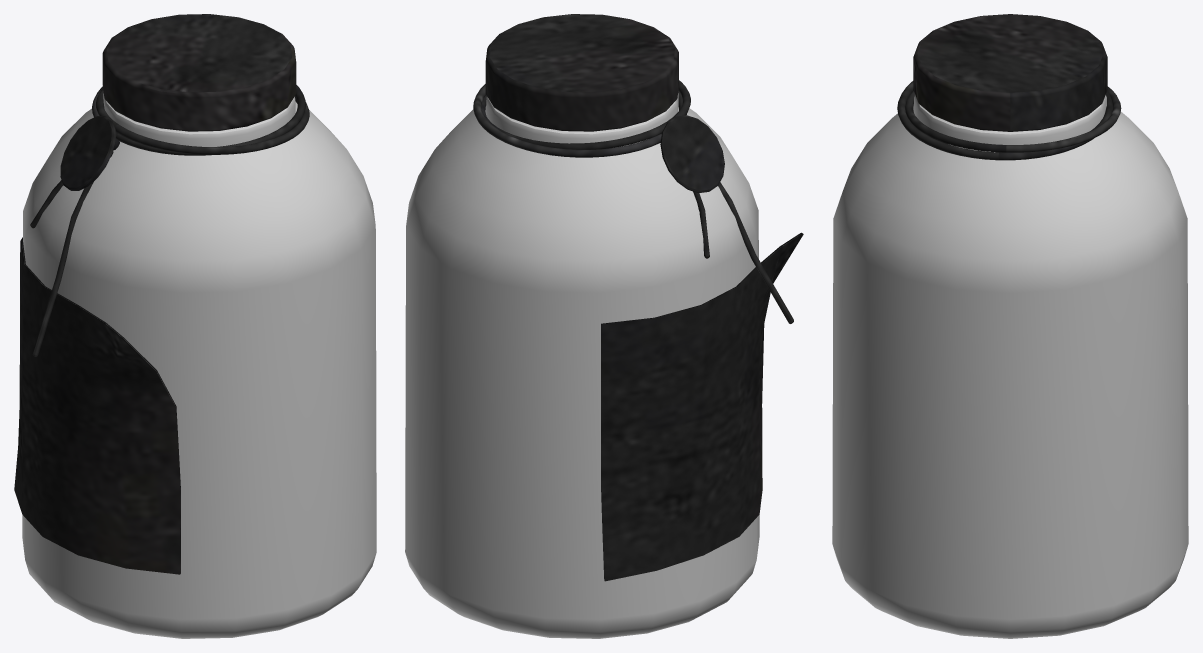
The model's file is SM_Potion_Master_Jar_00.fbx.
The picture shows the model from 3 angles, left to right: view 1: azimuth 30°, elevation 25°; view 2: azimuth 150°, elevation 25°; view 3: azimuth 270°, elevation 25°; orthographic projection.
Visible parts, largest first — view 1: SM_Potion_Master_Jar_00; view 2: SM_Potion_Master_Jar_00; view 3: SM_Potion_Master_Jar_00.
Boxes of the visible parts, left/top/right/bottom form: SM_Potion_Master_Jar_00: left=14, top=14, right=376, bottom=638; SM_Potion_Master_Jar_00: left=405, top=14, right=803, bottom=638; SM_Potion_Master_Jar_00: left=832, top=14, right=1188, bottom=638.
Size of the model in its own units: 24.94 by 22.43 by 36.25.
Materials: 3 (1 with a texture image).
